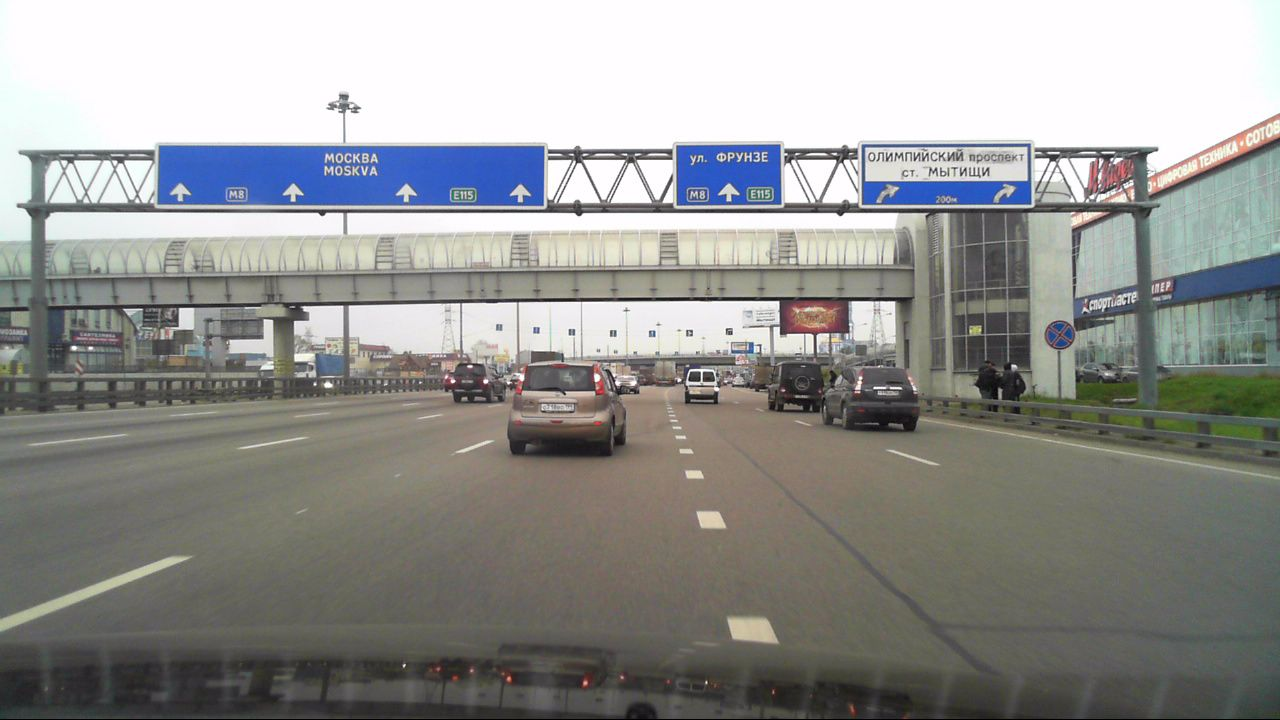No Parking: (1044, 320, 1075, 349)
